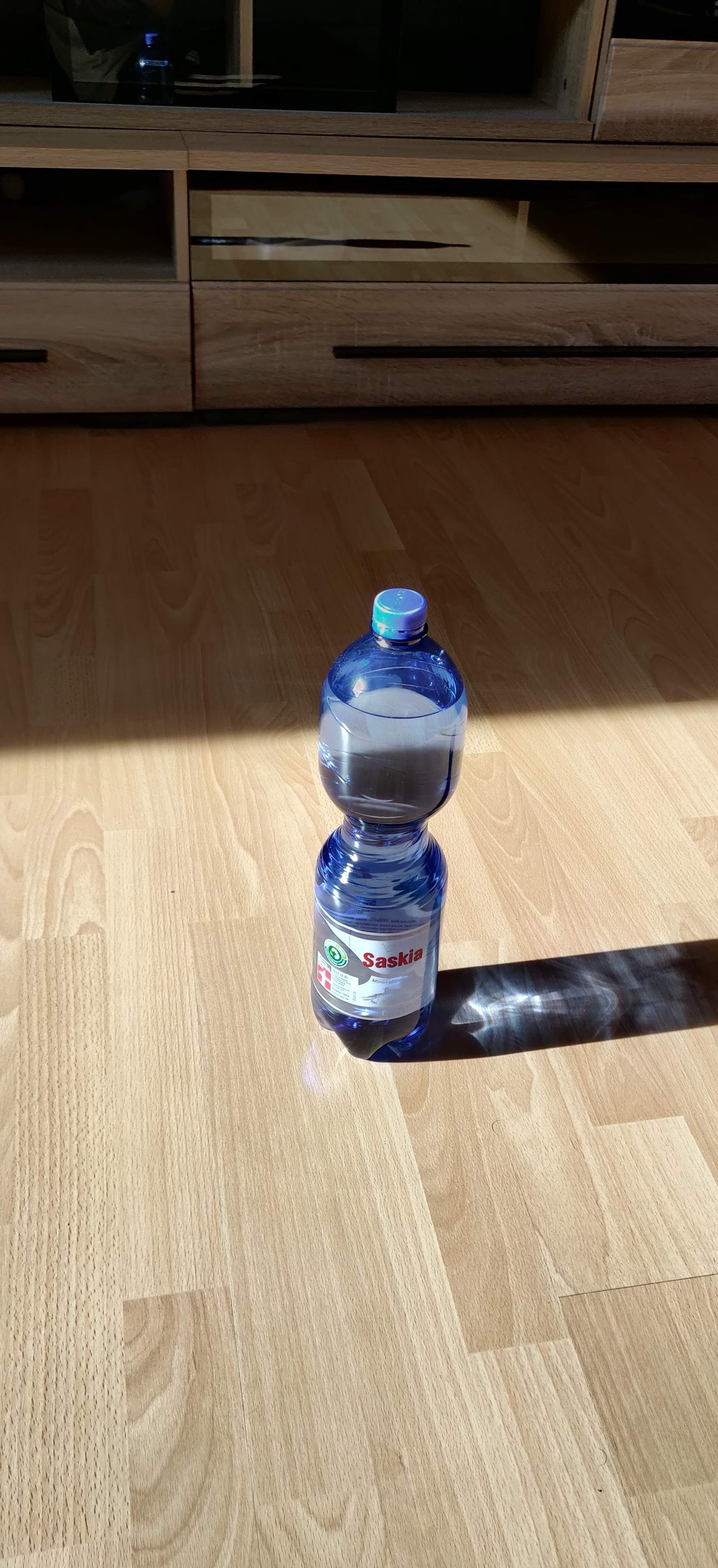bottle-plastic: (309, 586, 469, 1061)
